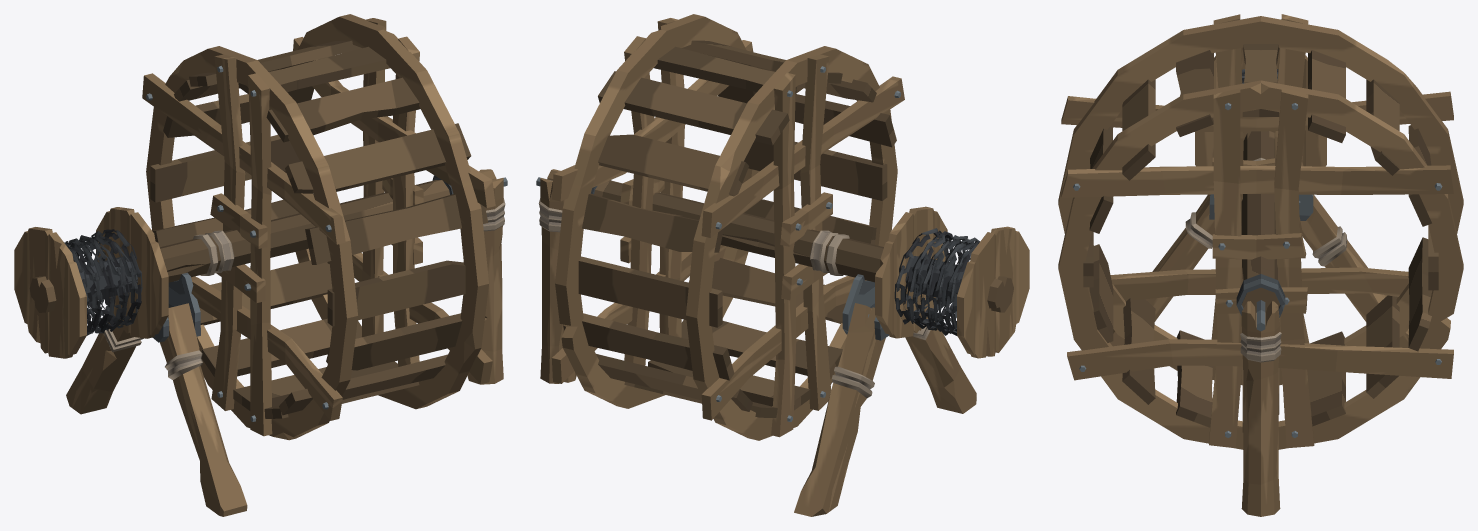
Rendered from SM_Prop_Drive_Wheel_01.fbx.
3 renders of one model, left to right at view 1: azimuth 30°, elevation 25°; view 2: azimuth 150°, elevation 25°; view 3: azimuth 270°, elevation 25°, orthographic.
Visible parts, largest first — view 1: SM_Prop_Drive_Wheel_01, SM_Prop_Drive_Wheel_01_Chain_01; view 2: SM_Prop_Drive_Wheel_01, SM_Prop_Drive_Wheel_01_Chain_01; view 3: SM_Prop_Drive_Wheel_01.
Boxes of the visible parts, <box> form: SM_Prop_Drive_Wheel_01: <box>14,14,507,516</box>; SM_Prop_Drive_Wheel_01_Chain_01: <box>64,229,142,335</box>; SM_Prop_Drive_Wheel_01: <box>536,14,1029,516</box>; SM_Prop_Drive_Wheel_01_Chain_01: <box>894,228,979,336</box>; SM_Prop_Drive_Wheel_01: <box>1058,14,1463,516</box>.
Bounding box in the file's own units: 458 × 349 × 341.
